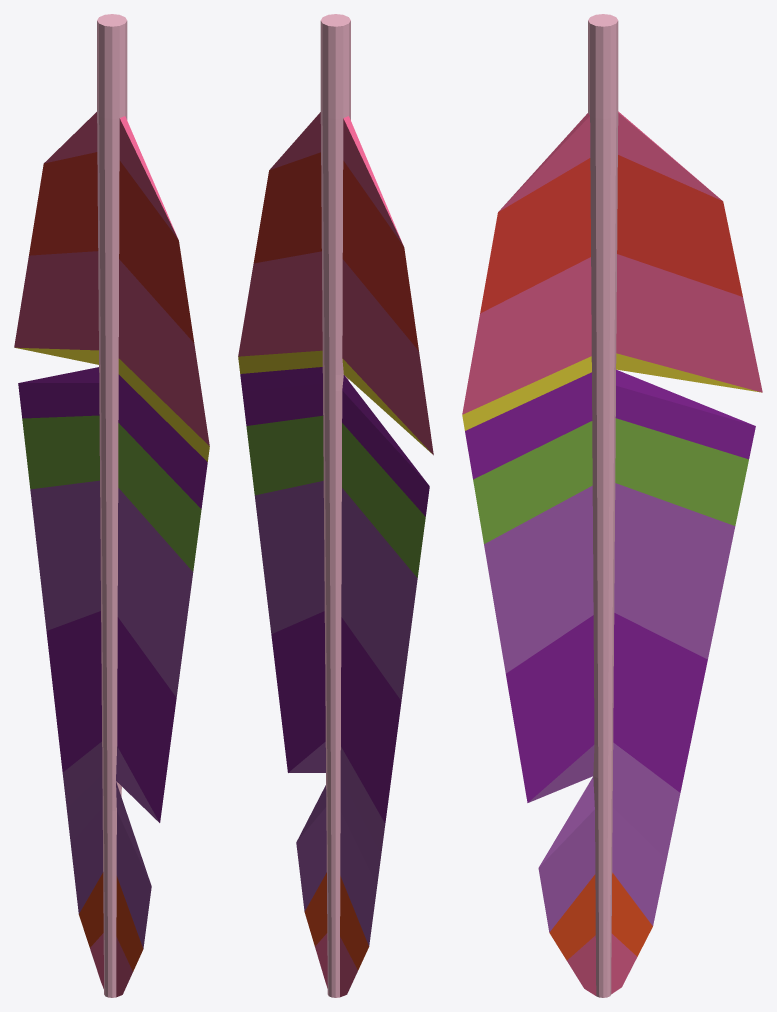
File: feather.fbx
The picture shows the model from 3 angles, left to right: view 1: azimuth 30°, elevation 25°; view 2: azimuth 210°, elevation 25°; view 3: azimuth 270°, elevation 25°; orthographic projection.
Visible parts, largest first — view 1: mesh_2002571839; view 2: mesh_2002571839; view 3: mesh_2002571839.
Part boxes in pixels (left/top/right/bottom): mesh_2002571839: left=14, top=14, right=209, bottom=997; mesh_2002571839: left=238, top=14, right=433, bottom=997; mesh_2002571839: left=462, top=14, right=762, bottom=997.
Bounding box in the file's own units: 13.91 × 285 × 79.71.
